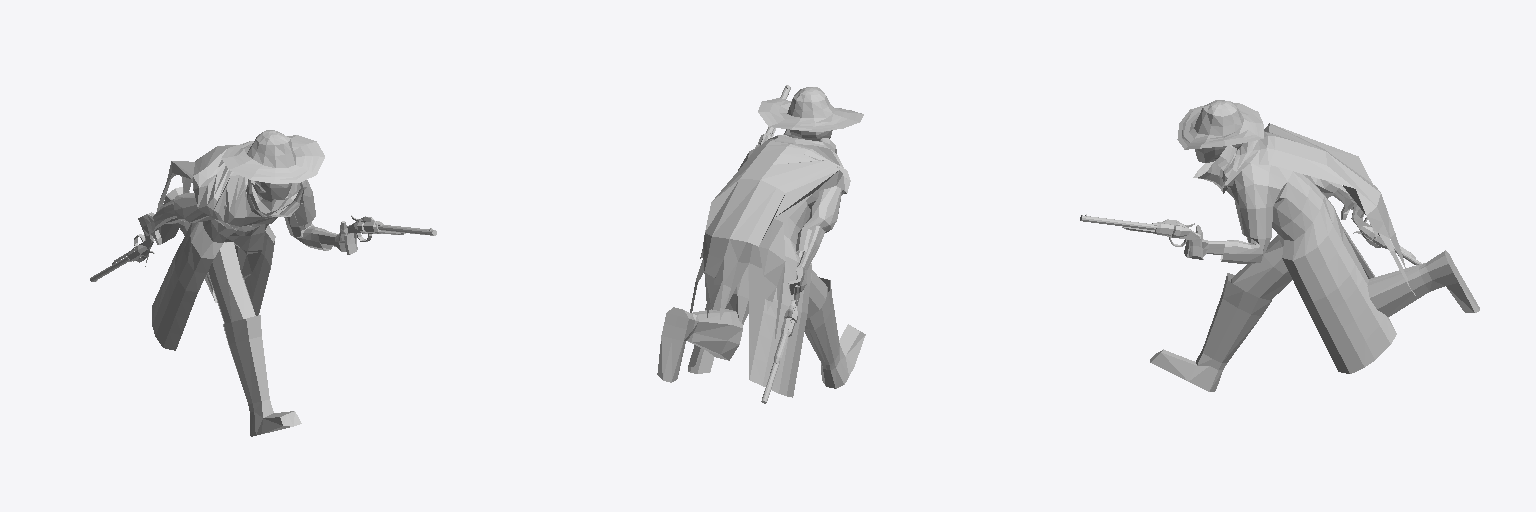
The model's file is Gunslinger_run_0.obj.
The picture shows the model from 3 angles: view 1: azimuth 30°, elevation 25°; view 2: azimuth 150°, elevation 25°; view 3: azimuth 270°, elevation 25°; orthographic projection.
Visible parts, largest first — view 1: Gunslinger_Clothing_Cube.004, Default_Body_Cube.003, Shemagh_Cube.009, Boots_Cube.008, Hat_Cube.005, Revolver_Model_Cube.006, Revolver_Model.001_Cube.007; view 2: Shemagh_Cube.009, Gunslinger_Clothing_Cube.004, Boots_Cube.008, Hat_Cube.005, Default_Body_Cube.003, Revolver_Model.001_Cube.007; view 3: Gunslinger_Clothing_Cube.004, Boots_Cube.008, Shemagh_Cube.009, Default_Body_Cube.003, Hat_Cube.005, Revolver_Model_Cube.006, Revolver_Model.001_Cube.007.
Boxes of the visible parts, <box> form: Gunslinger_Clothing_Cube.004: <box>152,180,332,350</box>; Default_Body_Cube.003: <box>138,181,356,323</box>; Shemagh_Cube.009: <box>145,145,306,266</box>; Boots_Cube.008: <box>159,187,301,436</box>; Hat_Cube.005: <box>221,130,324,183</box>; Revolver_Model_Cube.006: <box>347,215,436,249</box>; Revolver_Model.001_Cube.007: <box>90,224,154,281</box>; Shemagh_Cube.009: <box>690,129,850,338</box>; Gunslinger_Clothing_Cube.004: <box>688,149,842,397</box>; Boots_Cube.008: <box>657,277,865,388</box>; Hat_Cube.005: <box>758,87,863,131</box>; Default_Body_Cube.003: <box>725,129,832,324</box>; Revolver_Model.001_Cube.007: <box>761,277,799,403</box>; Gunslinger_Clothing_Cube.004: <box>1220,163,1396,373</box>; Boots_Cube.008: <box>1150,250,1479,391</box>; Shemagh_Cube.009: <box>1193,123,1415,295</box>; Default_Body_Cube.003: <box>1184,125,1363,300</box>; Hat_Cube.005: <box>1177,100,1263,149</box>; Revolver_Model_Cube.006: <box>1080,214,1203,259</box>; Revolver_Model.001_Cube.007: <box>1351,202,1421,264</box>.
Bounding box in the file's own units: 2.71 × 4.66 × 5.71.